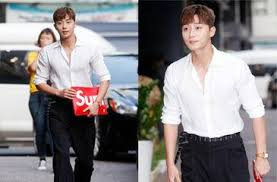F_belt: (173, 127, 244, 164)
F_dress pants: (46, 103, 99, 182)
F_shirt: (156, 46, 269, 142), (30, 37, 115, 107)
